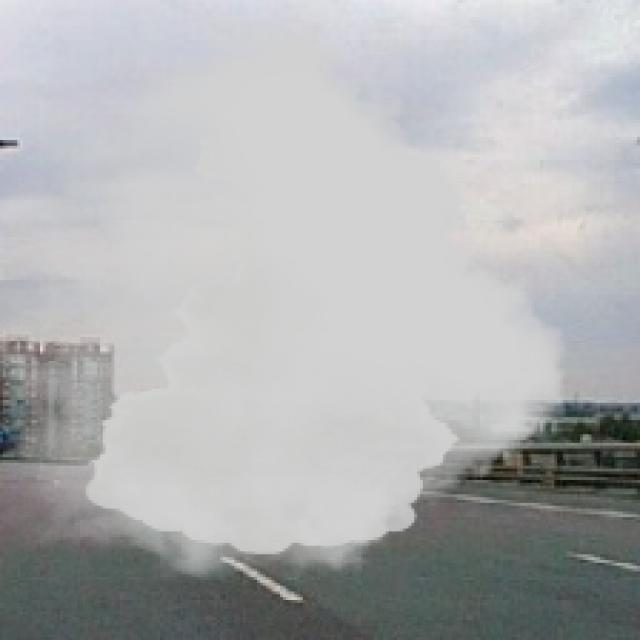Smoke: (0, 20, 566, 580)
